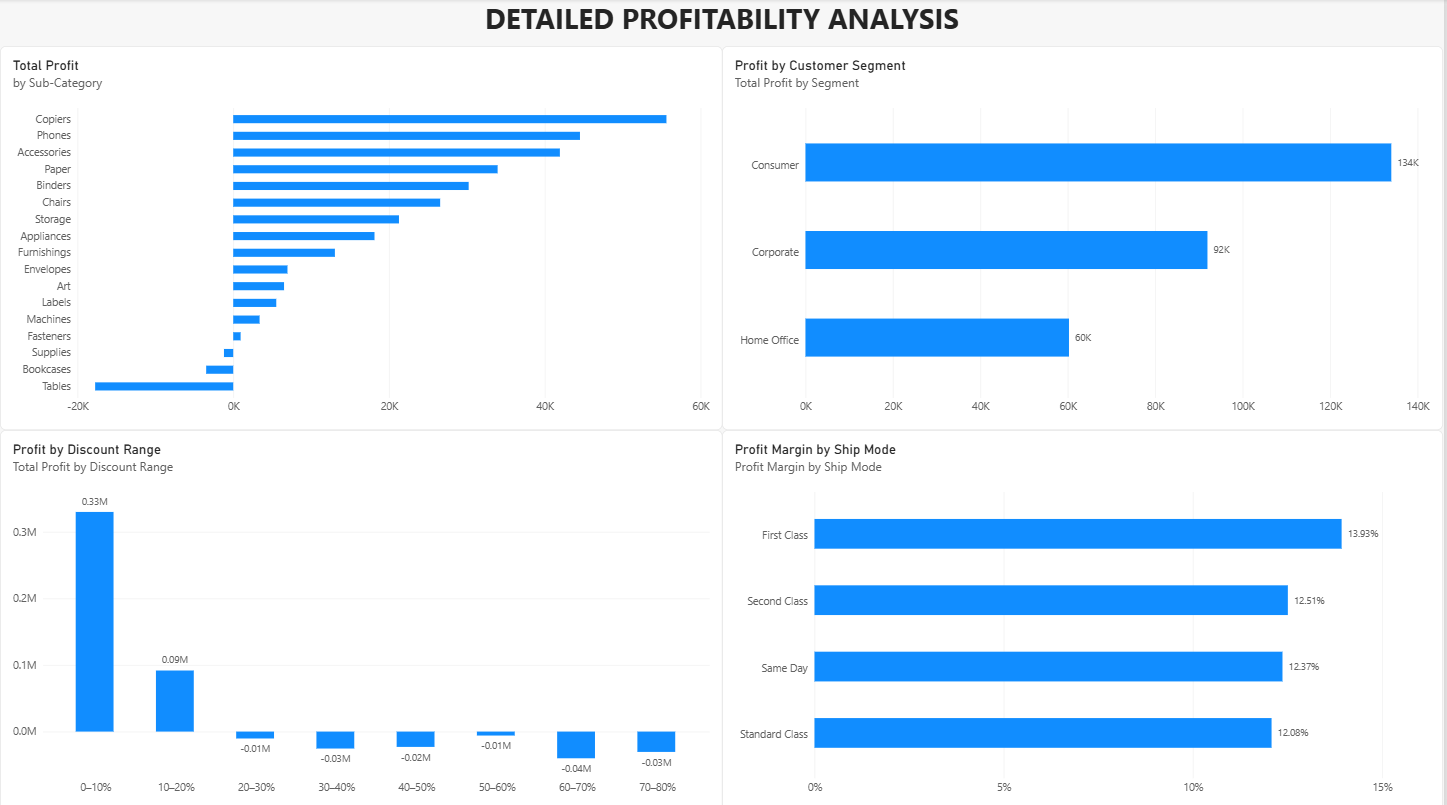

The page's visual inventory and layout, read from the dashboard file:
{"tool":"powerbi","page":{"name":"Profitability Analysis","canvas":[1920,1080],"ordinal":1},"visuals":[{"type":"clusteredBarChart","fields":{"Category":["SalesData.Sub-Category"],"Y":["SalesData.Total Profit"]},"box":[0,61.9,960.8,511.4],"z":0},{"type":"clusteredColumnChart","title":"Profit by Discount Range","fields":{"Y":["SalesData.Total Profit"],"Category":["SalesData.Discount Range"]},"box":[0,573.3,960.8,506.6],"z":1000},{"type":"clusteredBarChart","title":"Profit by Customer Segment","fields":{"Category":["SalesData.Segment"],"Y":["SalesData.Total Profit"]},"box":[960.8,61.9,959.2,511.4],"z":2000},{"type":"clusteredBarChart","title":"Profit Margin by Ship Mode","fields":{"Category":["SalesData.Ship Mode"],"Y":["SalesData.Profit Margin"]},"box":[960.8,573.3,959.2,506.6],"z":3000},{"type":"textbox","box":[0,0,1920.6,121],"z":4000}]}

Visuals, with their boxes in screenshot pixels (x1, y1, x2, y2), scaled from the page's 1920x1080 canvas onto the 1447x805 screenshot:
clusteredBarChart - SalesData.Sub-Category x SalesData.Total Profit: rect(0, 46, 724, 427)
"Profit by Discount Range" clusteredColumnChart: rect(0, 427, 724, 804)
"Profit by Customer Segment" clusteredBarChart: rect(724, 46, 1446, 427)
"Profit Margin by Ship Mode" clusteredBarChart: rect(724, 427, 1446, 804)
textbox: rect(0, 0, 1446, 90)
